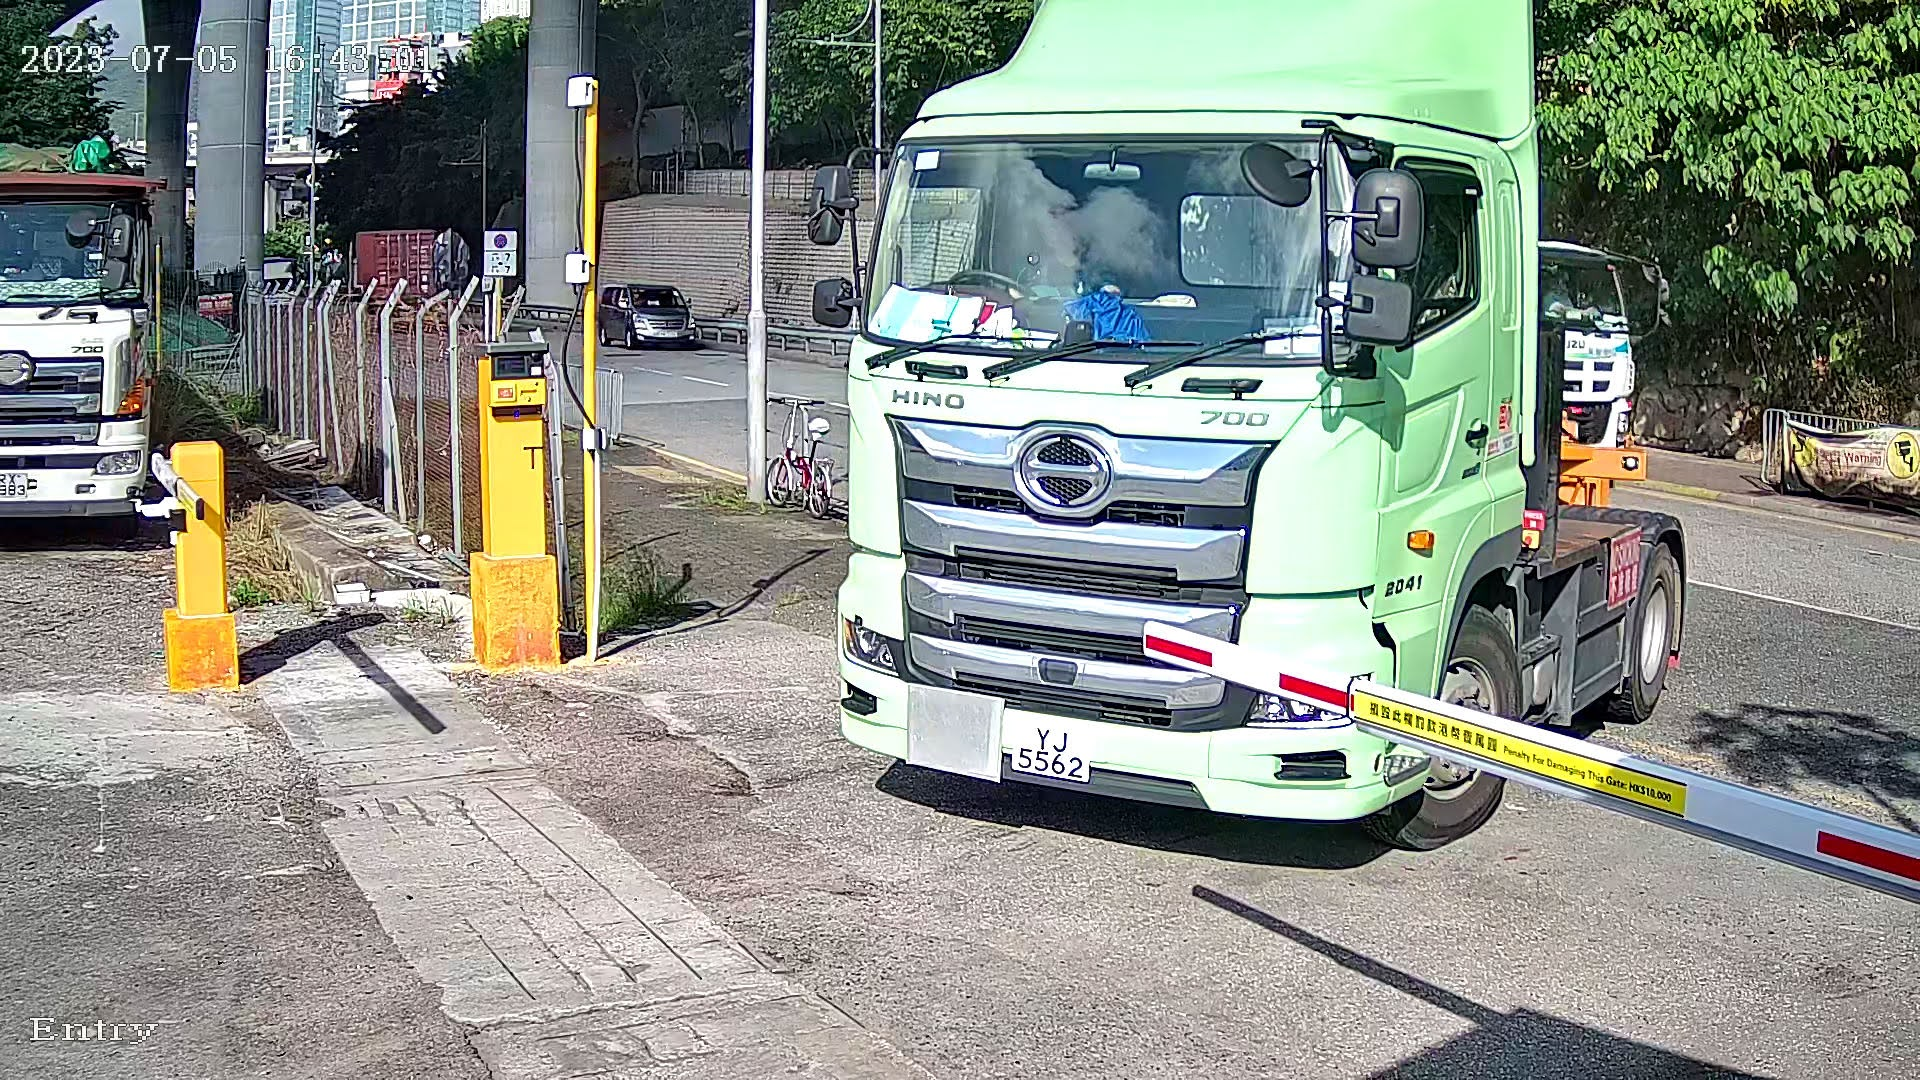tractor: (782, 1, 1718, 895)
